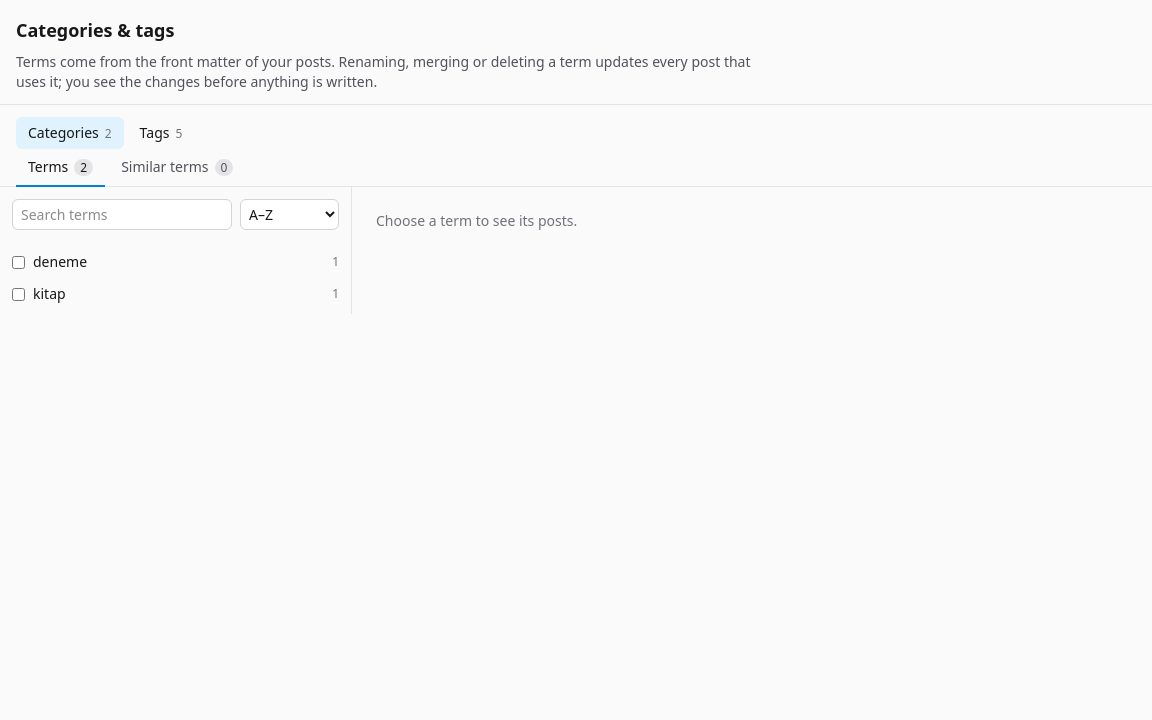
Test: TaxonomiesView › reports files that changed on disk and writes the others
Click the button "deneme 1" at coordinates (60, 262), box x1=33 y1=246 x2=339 y2=278
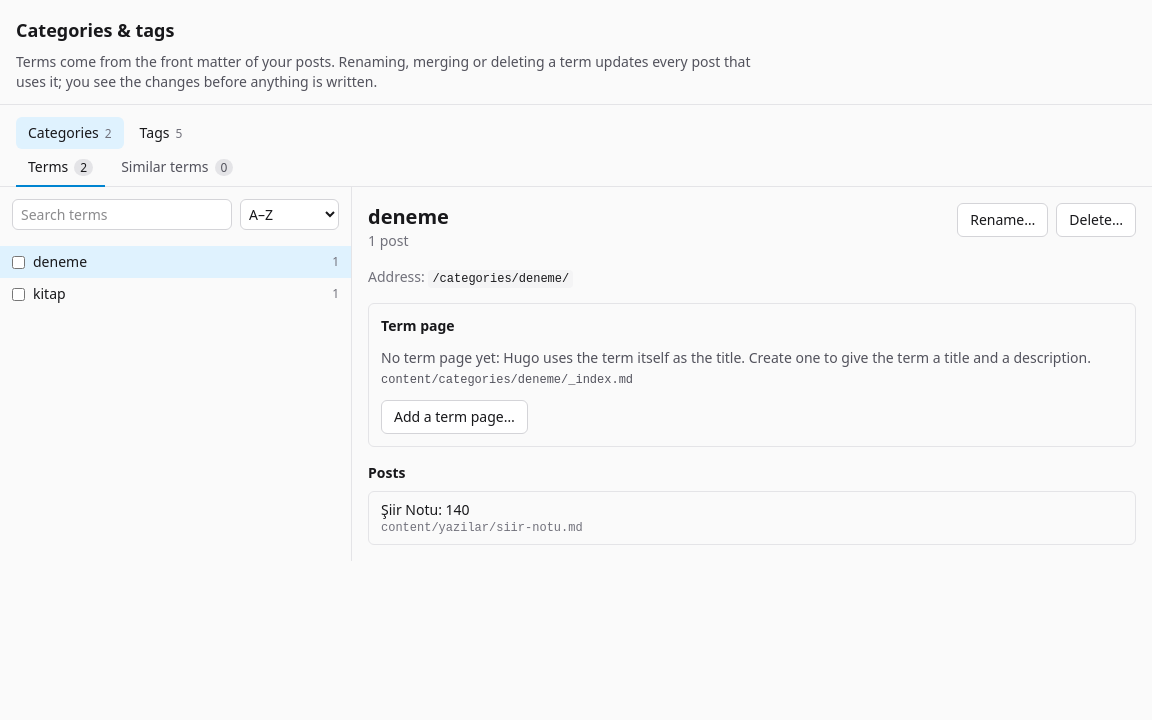
Click the button "Delete…" at coordinates (1096, 220), box x1=1056 y1=203 x2=1136 y2=237
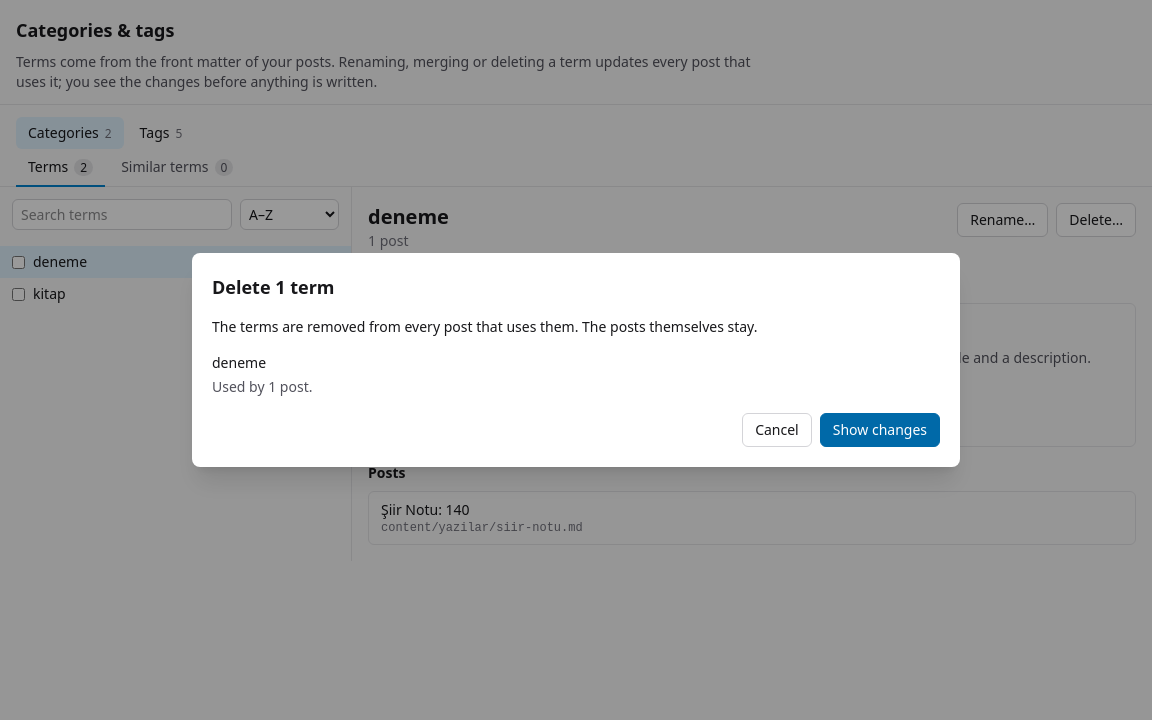
Click the button "Show changes" at coordinates (880, 430), box x1=820 y1=413 x2=940 y2=447
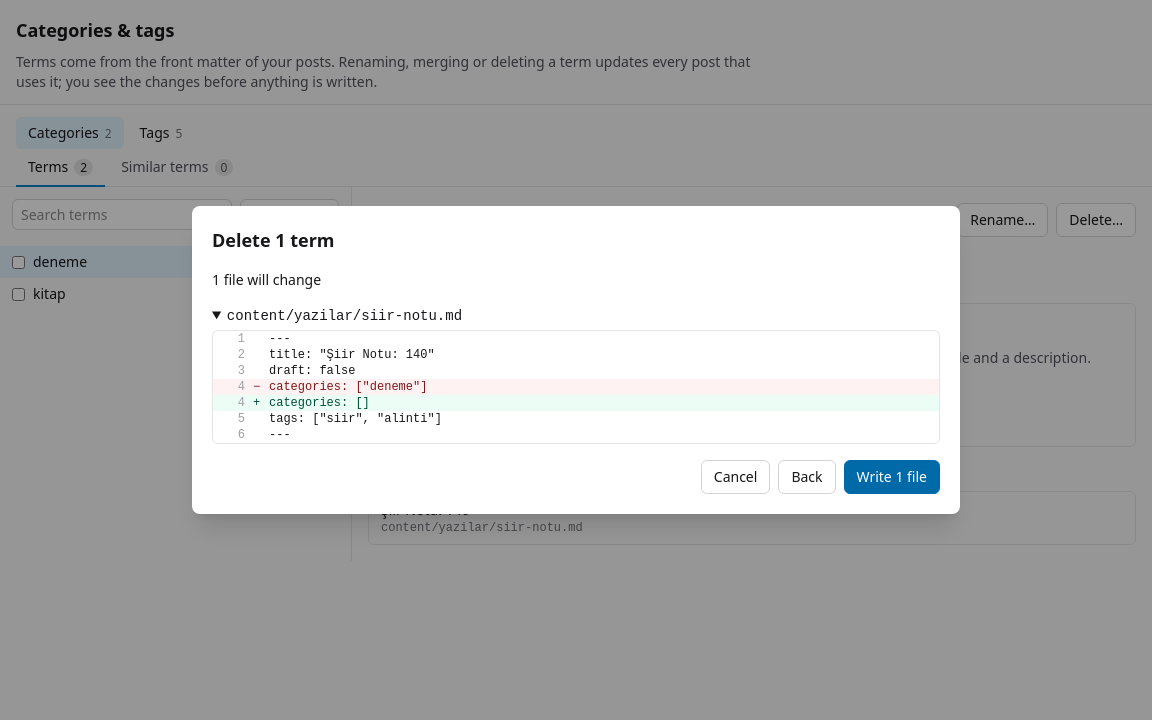
Result: the dialog shows "1 file will change" at x1=212 y1=270 x2=321 y2=289
Click the button "Write 1 file" at coordinates (892, 477), box x1=844 y1=460 x2=940 y2=494
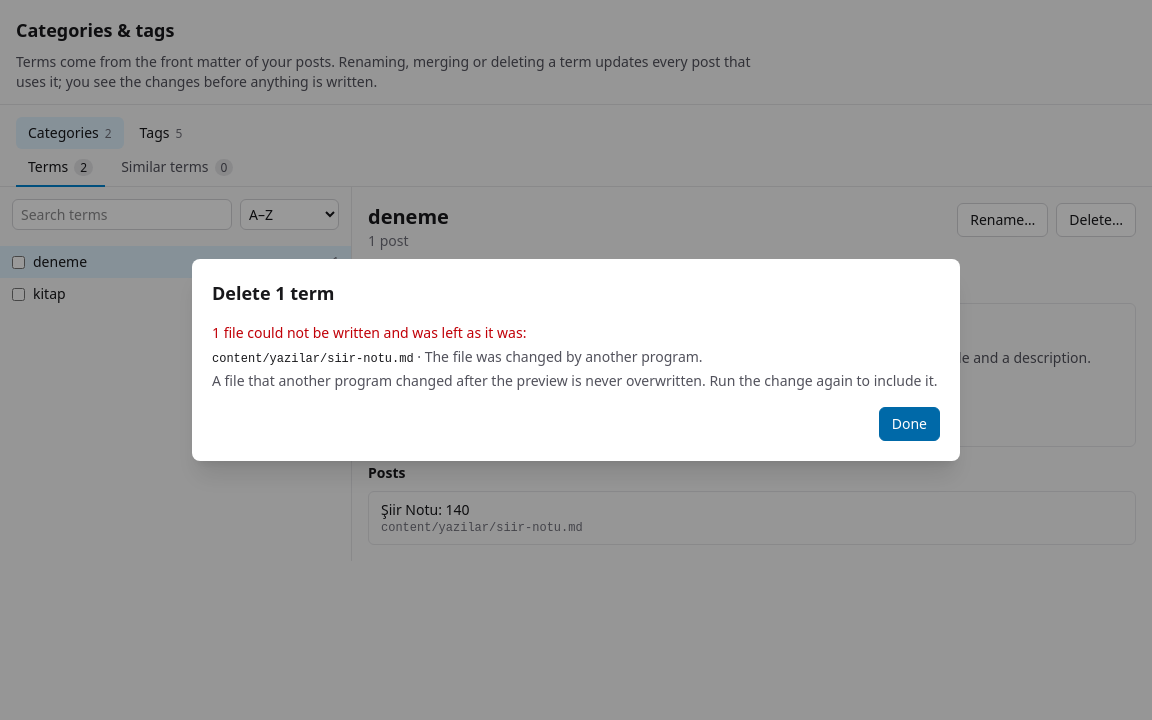
Result: the dialog shows "content/yazilar/siir-notu.md" at x1=212 y1=352 x2=414 y2=366
Result: the dialog shows "1 file could not be written" at x1=212 y1=323 x2=526 y2=342
Result: the dialog shows "never overwritten" at x1=212 y1=371 x2=938 y2=390
